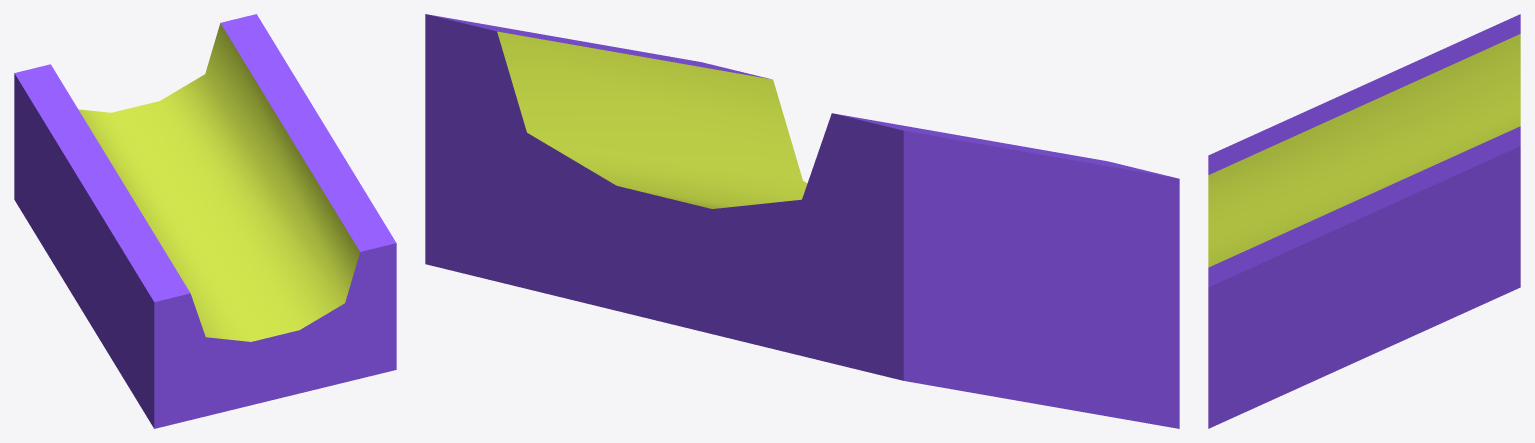
The model's file is slant_B.glb.
3 renders of one model, left to right at view 1: azimuth 30°, elevation 25°; view 2: azimuth 150°, elevation 25°; view 3: azimuth 270°, elevation 25°, orthographic. The views are drawn at different scales.
Visible parts, largest first — view 1: slant_B; view 2: slant_B; view 3: slant_B.
Part boxes in pixels (<box>): slant_B: <box>14,14,396,428</box>; slant_B: <box>425,14,1179,428</box>; slant_B: <box>1208,14,1520,428</box>.
Bounding box in the file's own units: 1 × 1 × 1.
